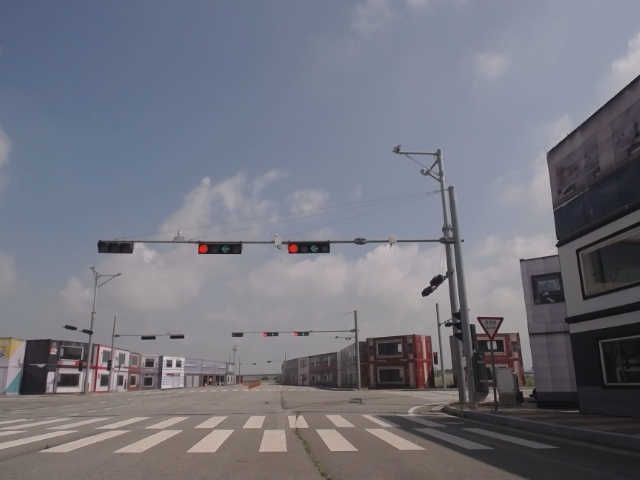left_green_4: (197, 242, 242, 255), (288, 241, 330, 254)
